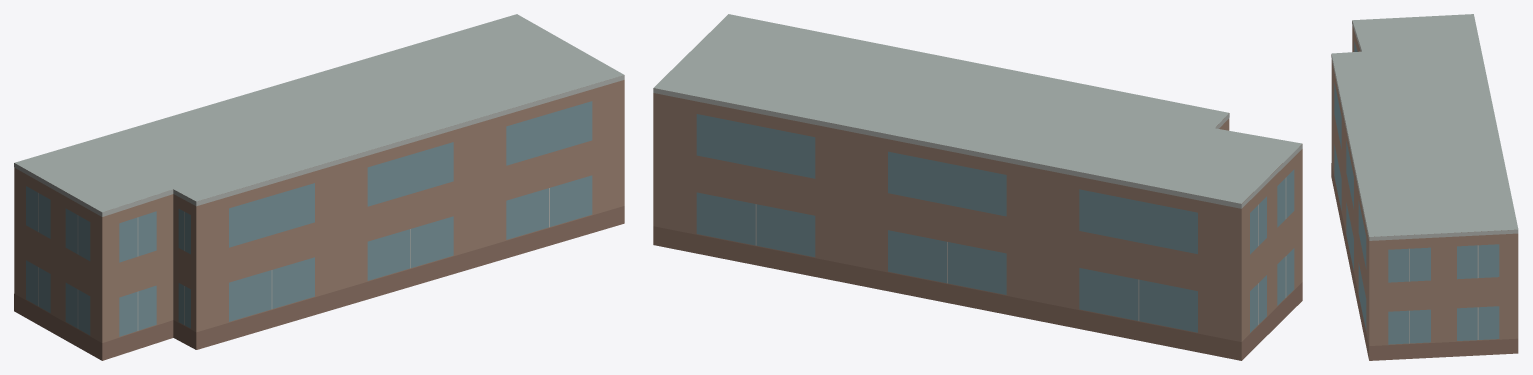
Rendered from survey-upis-32534175.glb.
3 renders of one model, left to right at view 1: azimuth 30°, elevation 25°; view 2: azimuth 150°, elevation 25°; view 3: azimuth 270°, elevation 25°, orthographic. The views are drawn at different scales.
Parts seen in each view (by area): view 1: survey-upis-32534175.tmp; view 2: survey-upis-32534175.tmp; view 3: survey-upis-32534175.tmp.
Part boxes in pixels (x1,y1,x2,y2): survey-upis-32534175.tmp: (14,14,624,360); survey-upis-32534175.tmp: (653,14,1302,360); survey-upis-32534175.tmp: (1331,14,1518,360).
Size of the model in its own units: 29.74 by 7.7 by 10.54.
